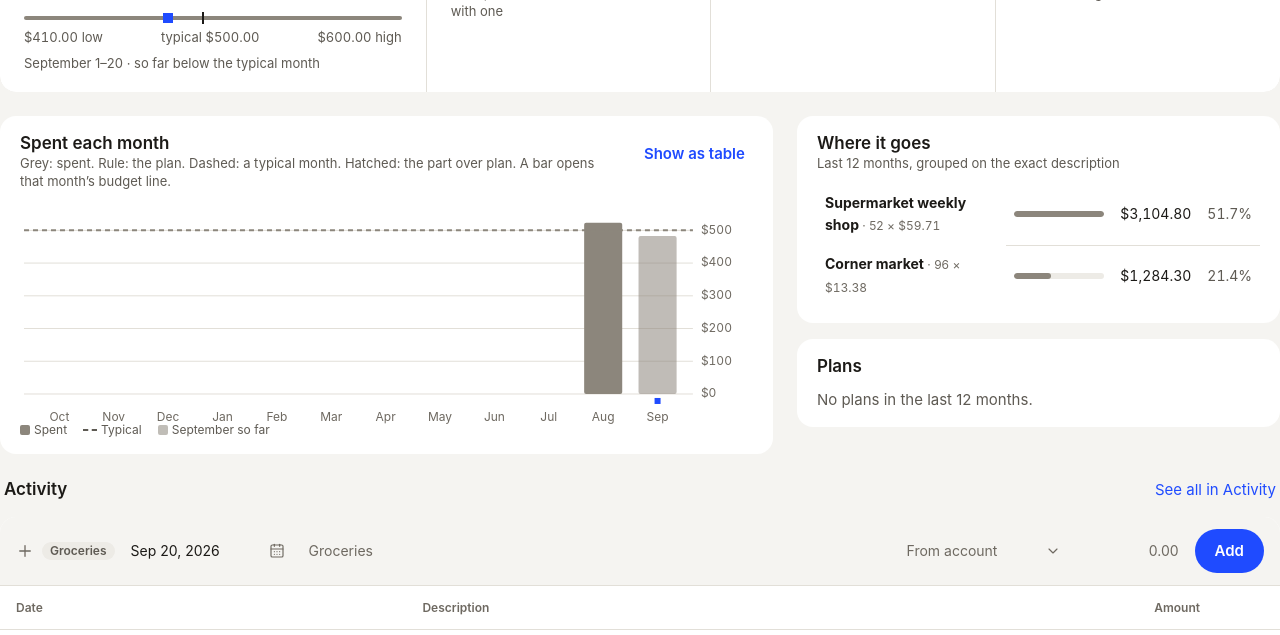
Test: CategoryDetailPage › asks which account the money left, since a category has none
(page scrolled)
Type "46.80" into the field named "Amount" at (1132, 551), box [1077, 533, 1187, 569]
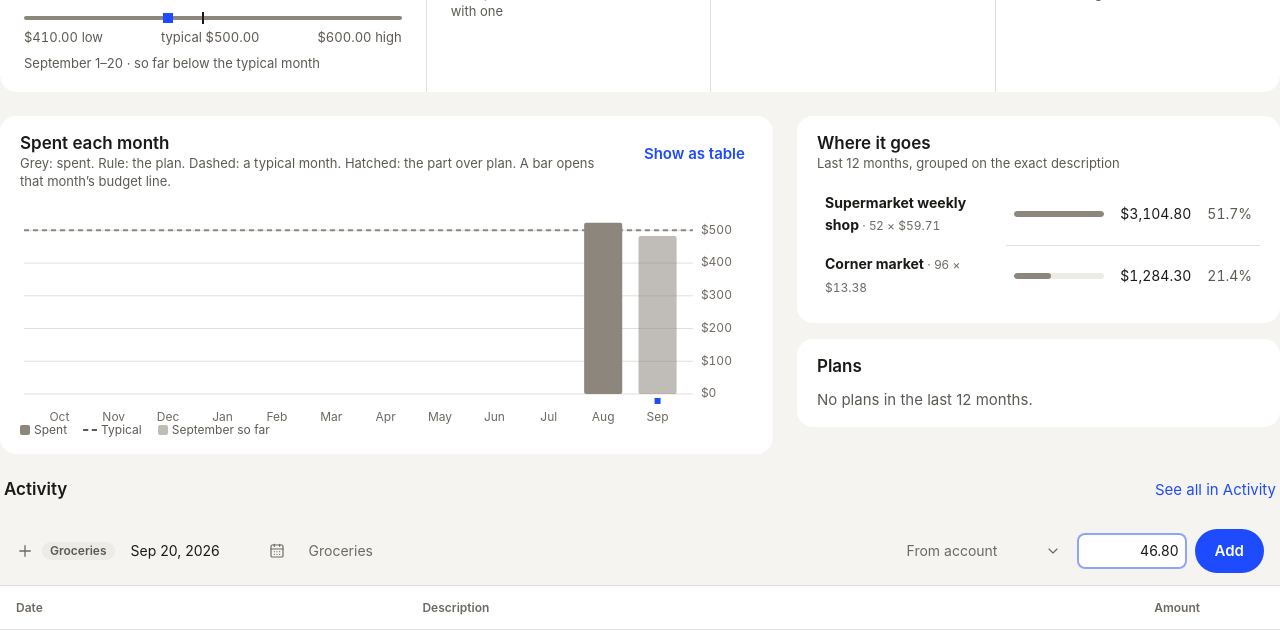
Click the button "Add" at (1229, 551), box [1195, 529, 1264, 573]
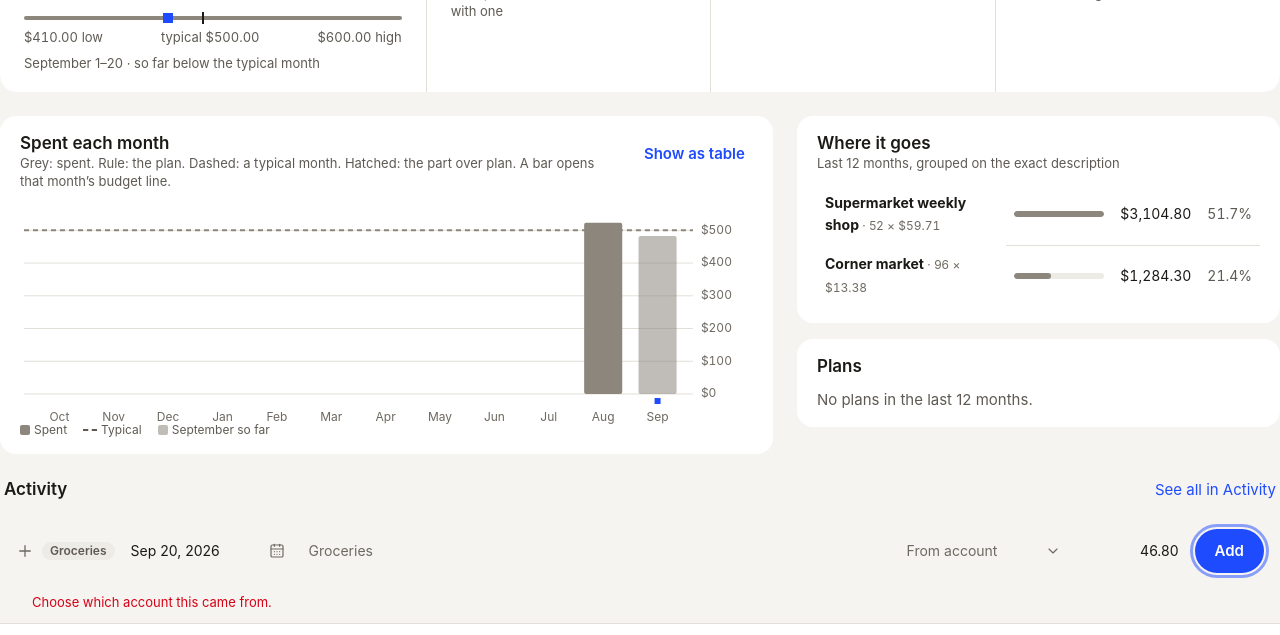
Expected: the text "Choose which account this came from." is shown, [32, 594, 272, 610]
